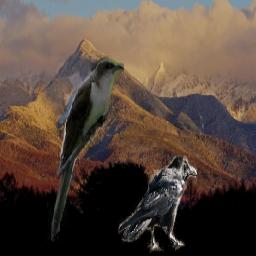Crow: (117, 154, 197, 255)
Cuckoo: (48, 55, 125, 243)
